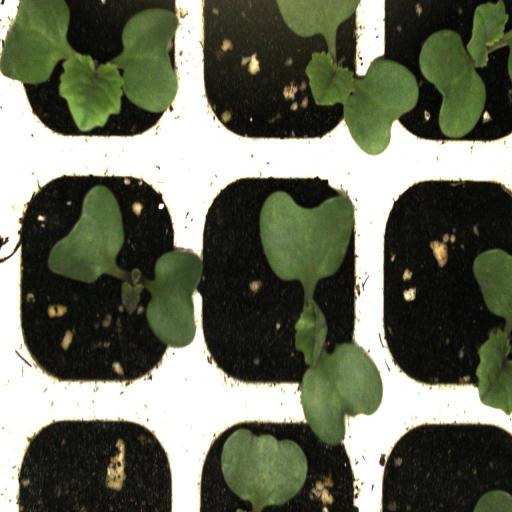seedling: (189, 163, 368, 402), (11, 162, 188, 402), (190, 0, 373, 163), (12, 0, 186, 160), (386, 0, 512, 159)
